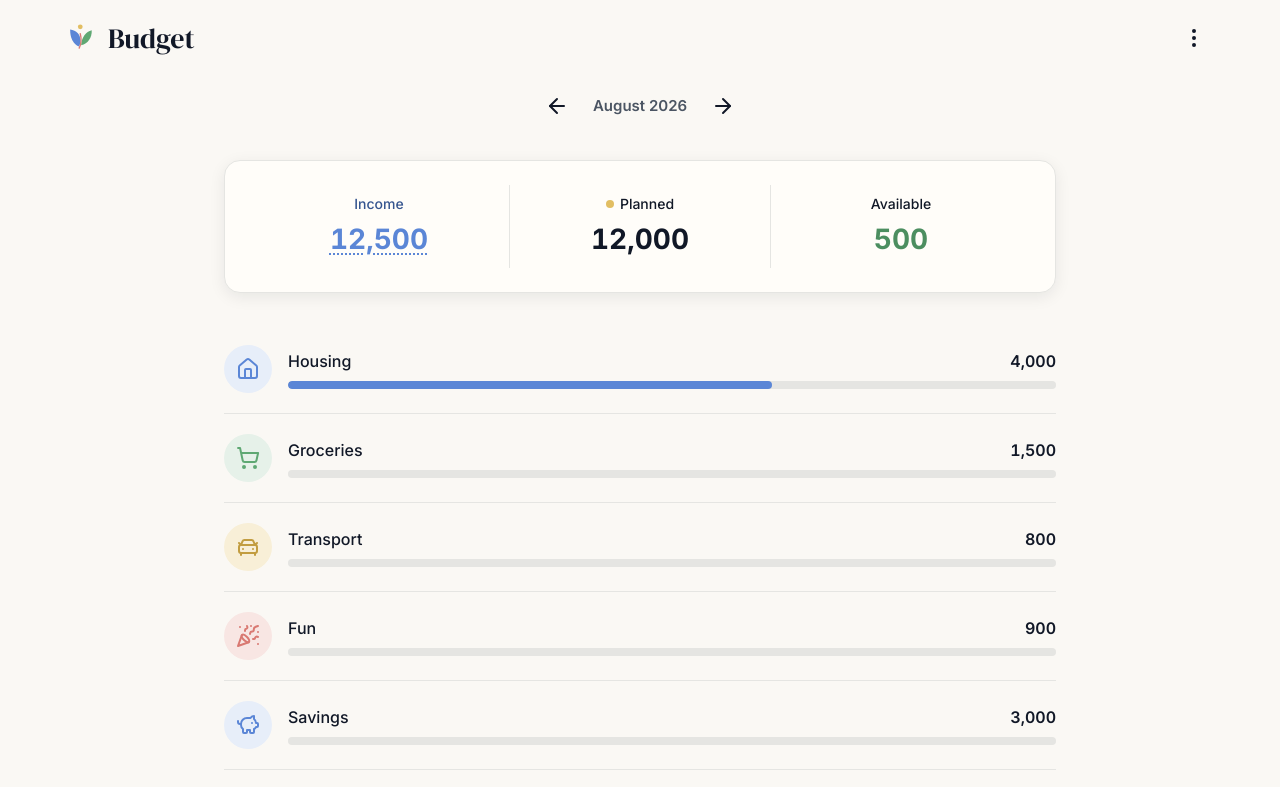
qa-budget-flow › QA-CC-50: editing income through the live dialog PATCHes integer minor units and refreshes the summary
Click the button named "Edit income, current value 12,500" at (379, 239), box top-left (322, 214), bottom-right (436, 264)
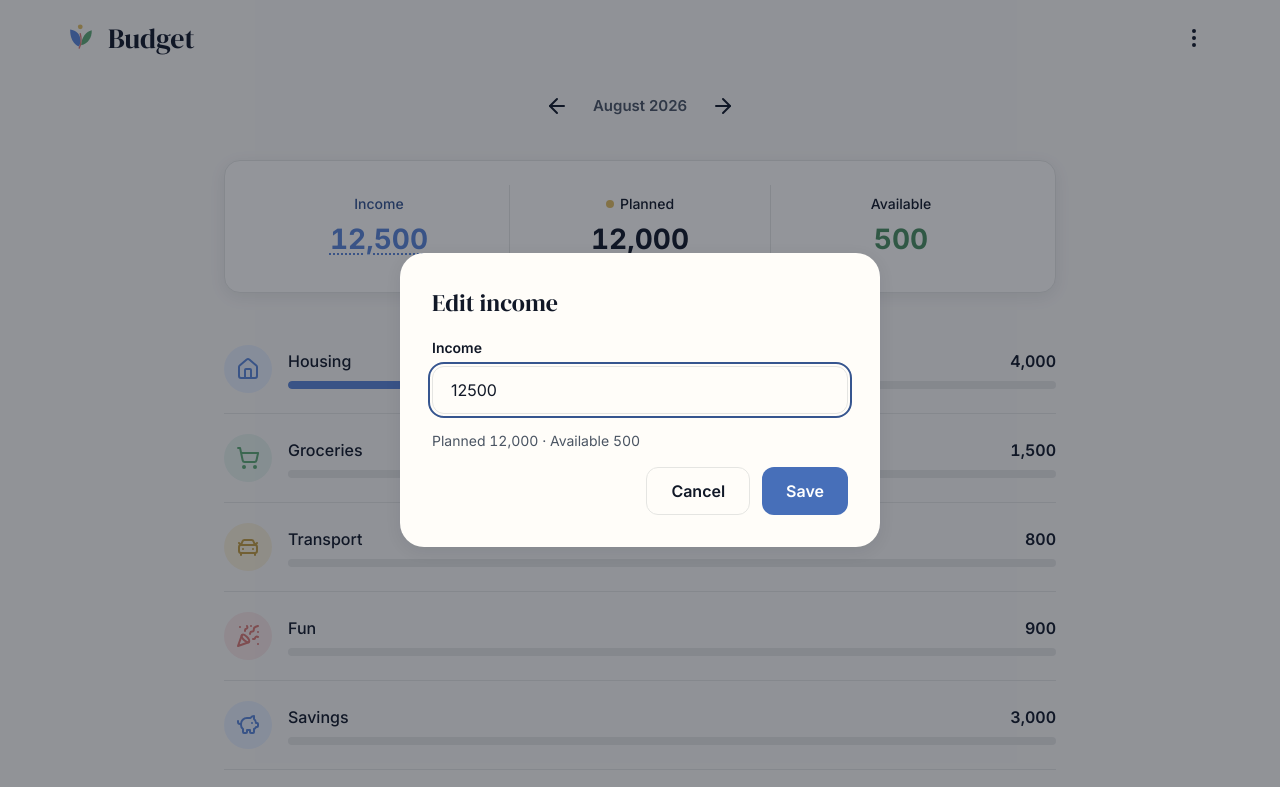
Now the field labelled "Income" holds "12500"
Replace the text in the field labelled "Income" with "15000" at (640, 390), box top-left (449, 377), bottom-right (831, 403)
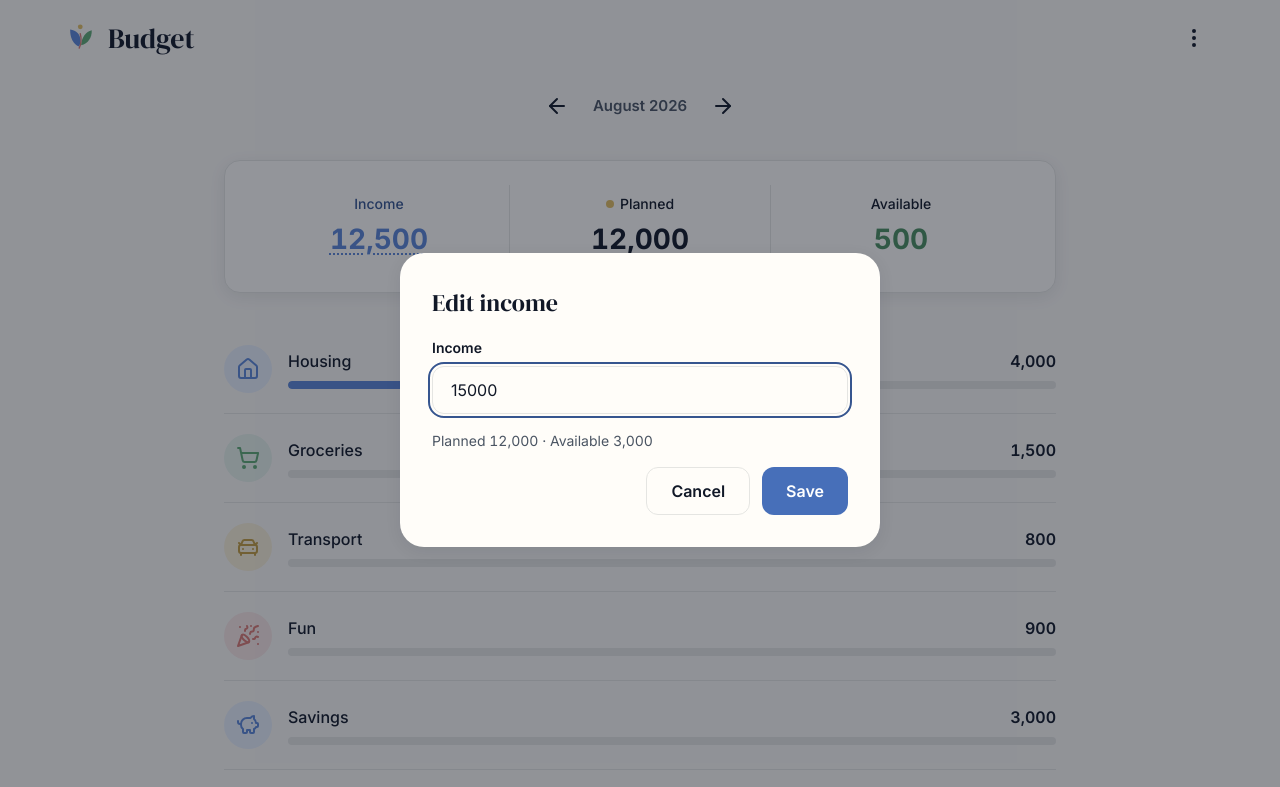
Now the dialog shows "Available 3,000", box top-left (400, 253), bottom-right (880, 547)
Click the button "Save" at (805, 491), box top-left (762, 467), bottom-right (848, 515)
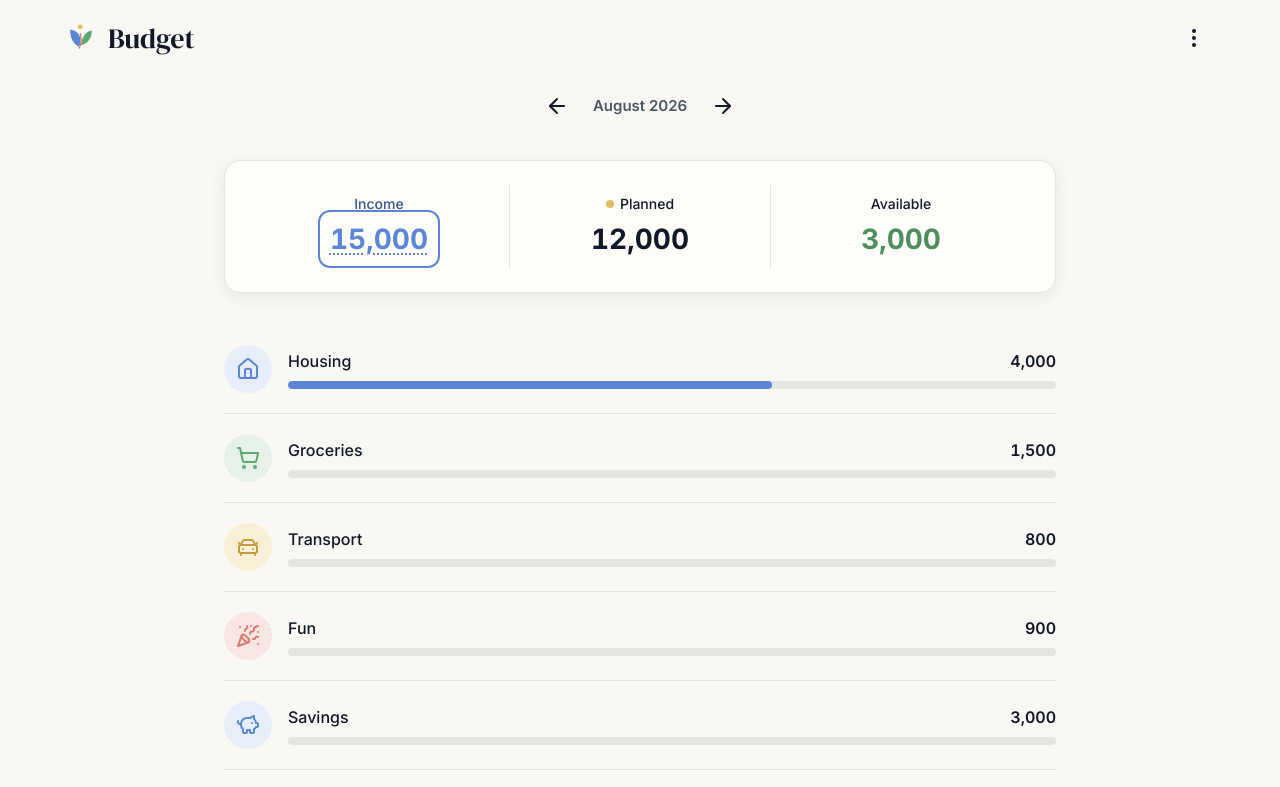
Now the button named "Edit income, current value 15,000" is shown, box top-left (322, 214), bottom-right (436, 264)
